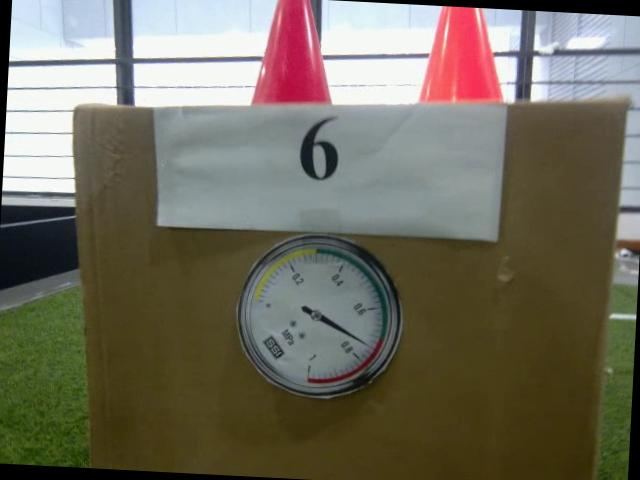6: (298, 112, 343, 182)
Dashboard: (233, 230, 407, 403)
orange_barrel: (416, 6, 508, 106)
red_barrel: (249, 0, 338, 106)
ssi: (260, 334, 288, 361)
